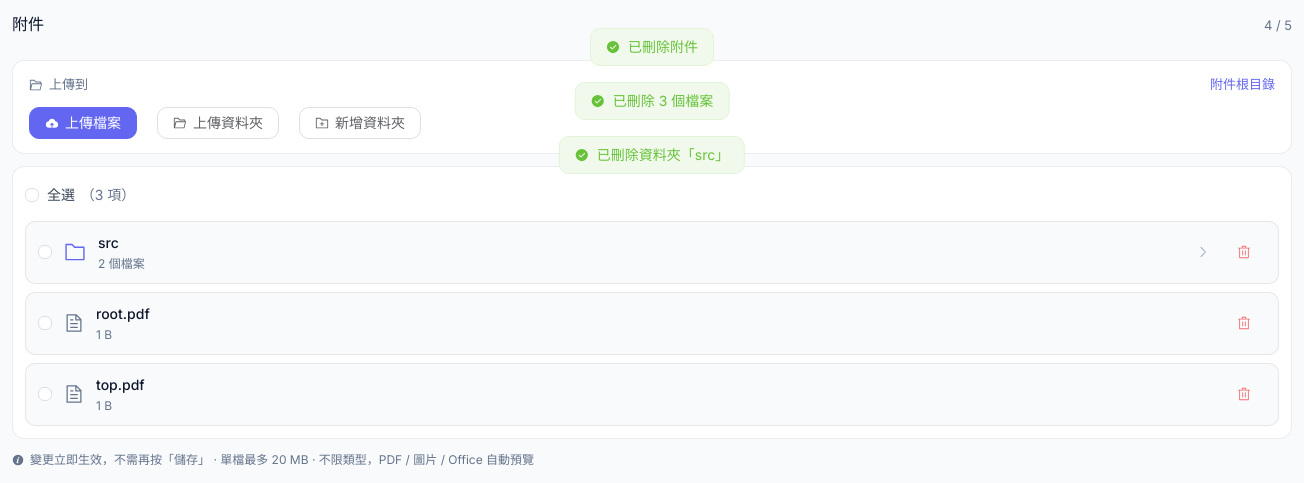
Test: JobAttachmentsManager.vue › bulk selection & delete › clicking a folder row drills in even when its delete button is also rendered
Click the list item with test id "manager-folder-src": {"x": 652, "y": 252} [25,220,1279,284]
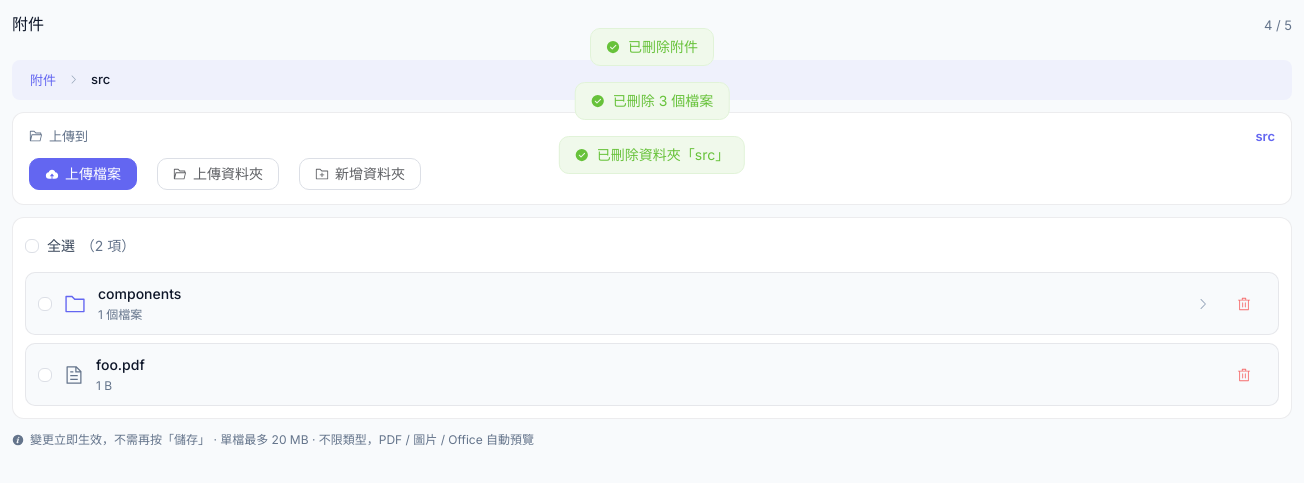
Check: the list item with test id "attachment-row-3" is shown, box [25,343,1279,406]
